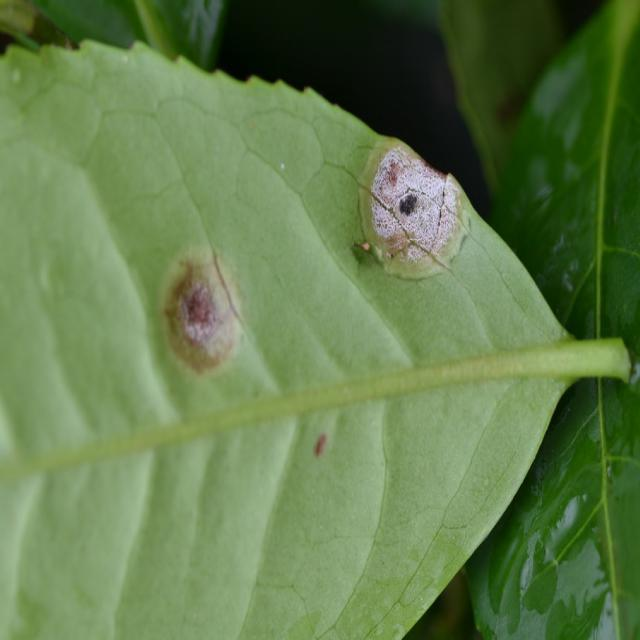Tea cake: (361, 126, 474, 269), (151, 238, 244, 379)
